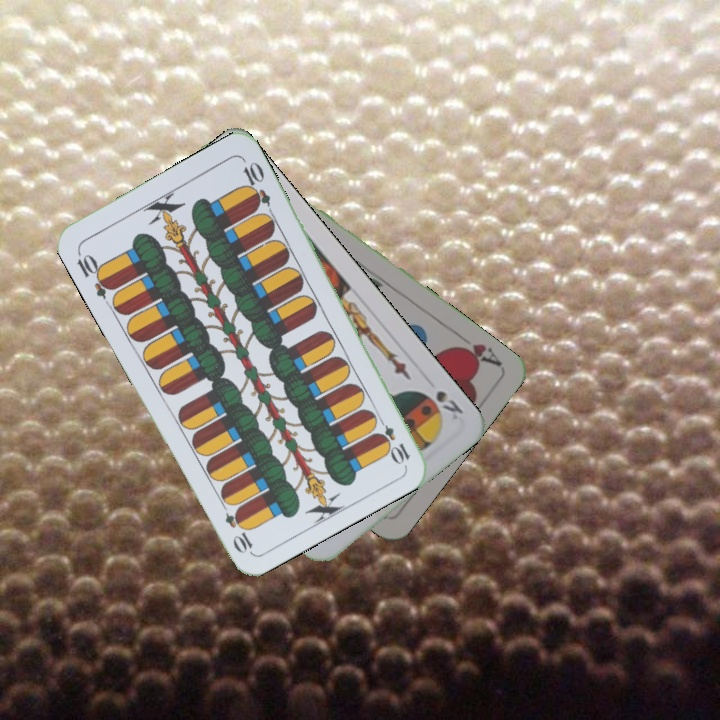E10: (73, 247, 117, 301), (371, 411, 413, 467)
HA: (449, 329, 504, 369)
SK: (431, 386, 466, 425)
